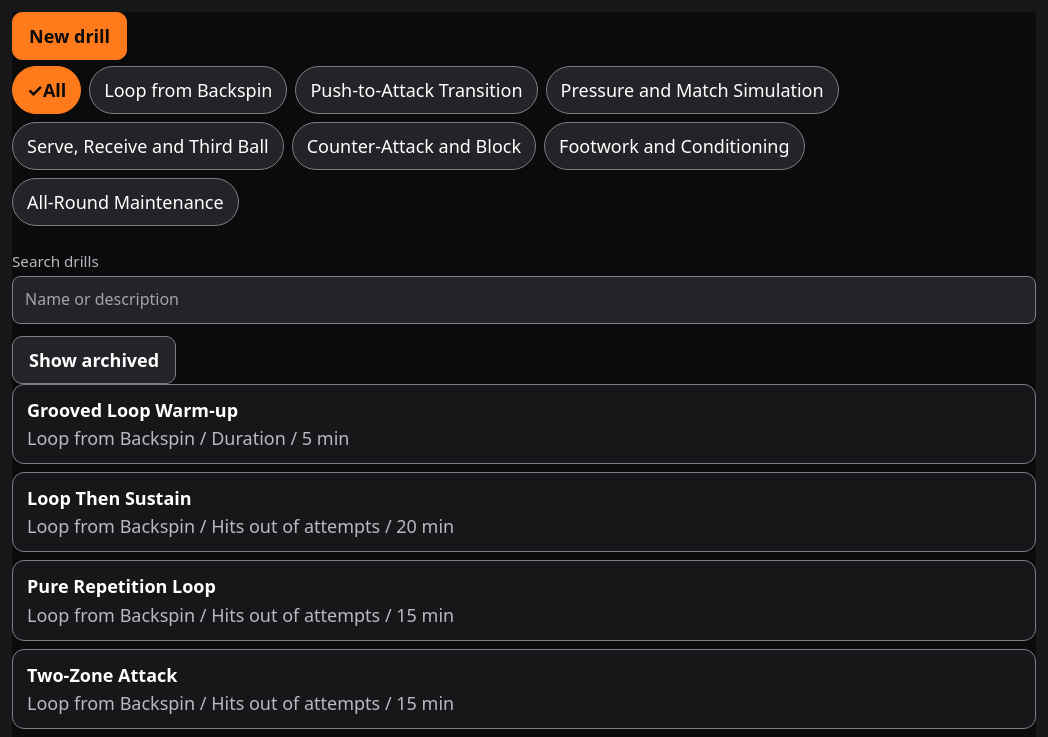
Test case: Library lists › archived drills are hidden until Show archived is on
Check: the text "Pure Repetition Loop" is shown, box [27,573,216,600]
Check: the text "Spin Calibration Blocks (archived)" is not shown
Click the button "Show archived" at {"x": 94, "y": 360}, box [12,336,176,384]
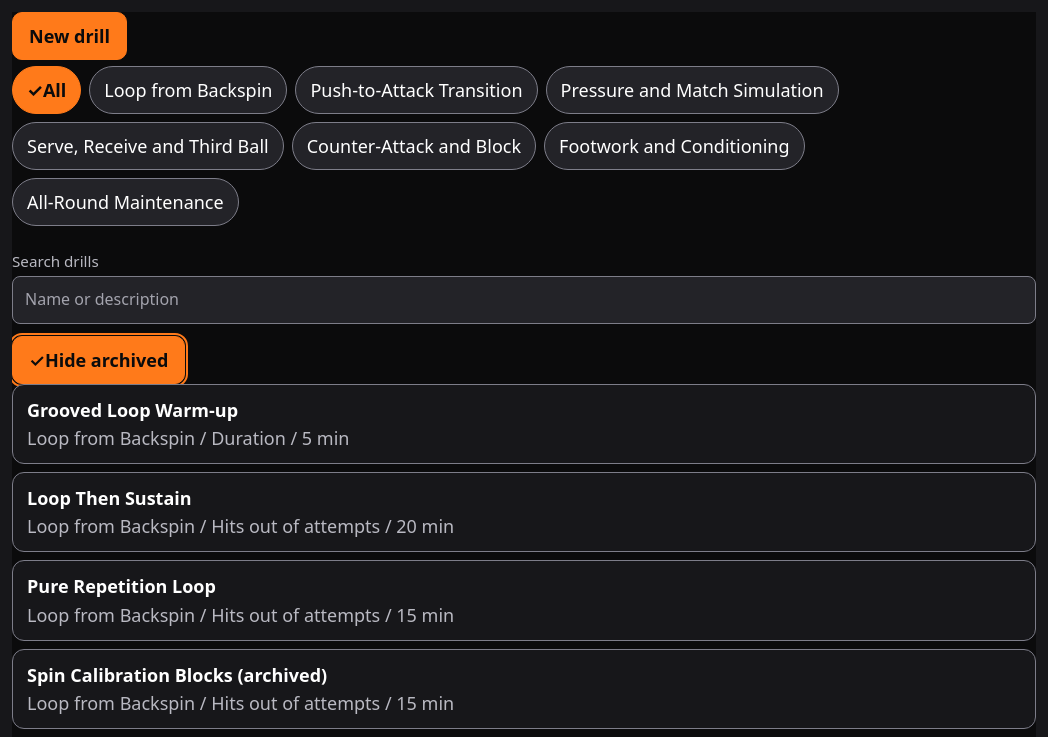
Check: the text "Spin Calibration Blocks (archived)" is shown, box [27,662,327,688]
